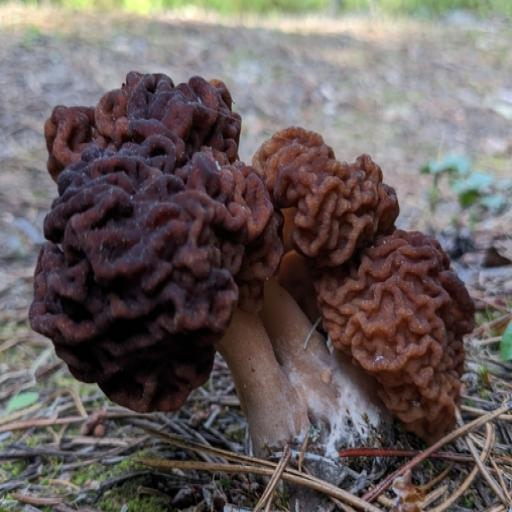False Morel: (1, 61, 505, 487)
